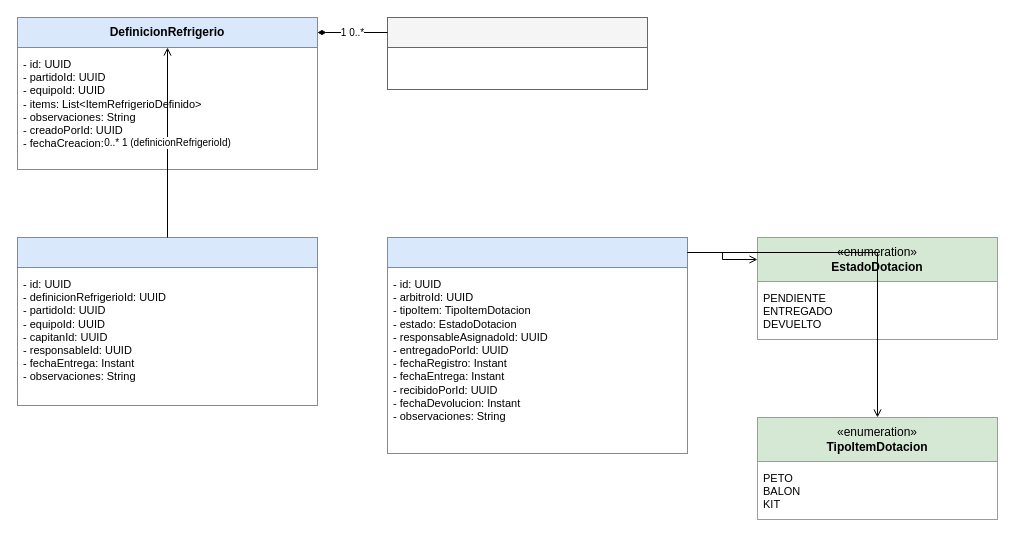
Some shapes in this 1015 by 537 pixel diagram are drawn without their labels. The shapes that lost their labels are listed below. From the top down, each one's centre as x and y in pixels, then its label:
At pixel 517 32: "ItemRefrigerioDefinido".
At pixel 517 68: "- descripcion: String - cantidad: Integer".
At pixel 167 252: "EntregaRefrigerio".
At pixel 537 252: "ItemDotacion".
